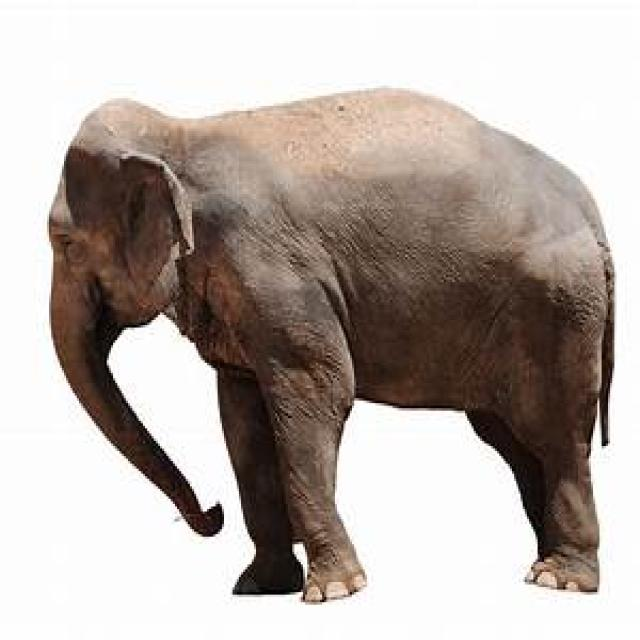elephant: (47, 88, 617, 607)
